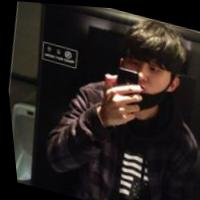WRONG: (111, 45, 179, 113)
